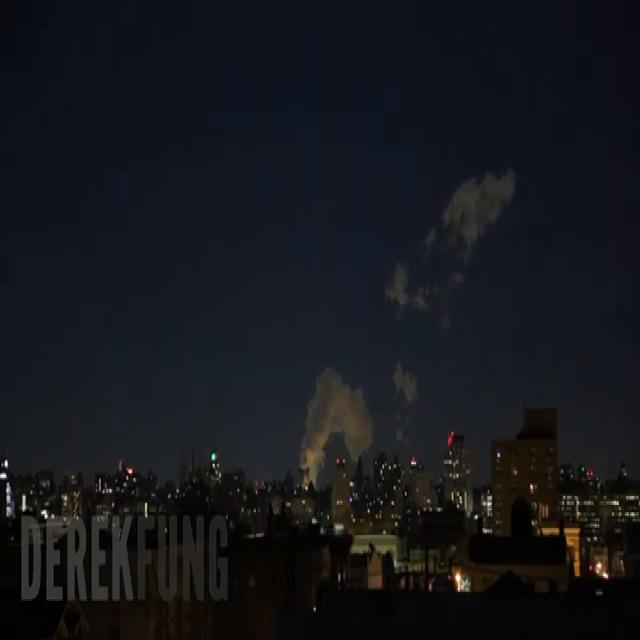smoke: (299, 368, 372, 482)
